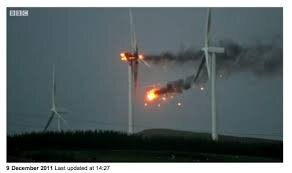faulty: (113, 24, 154, 86)
